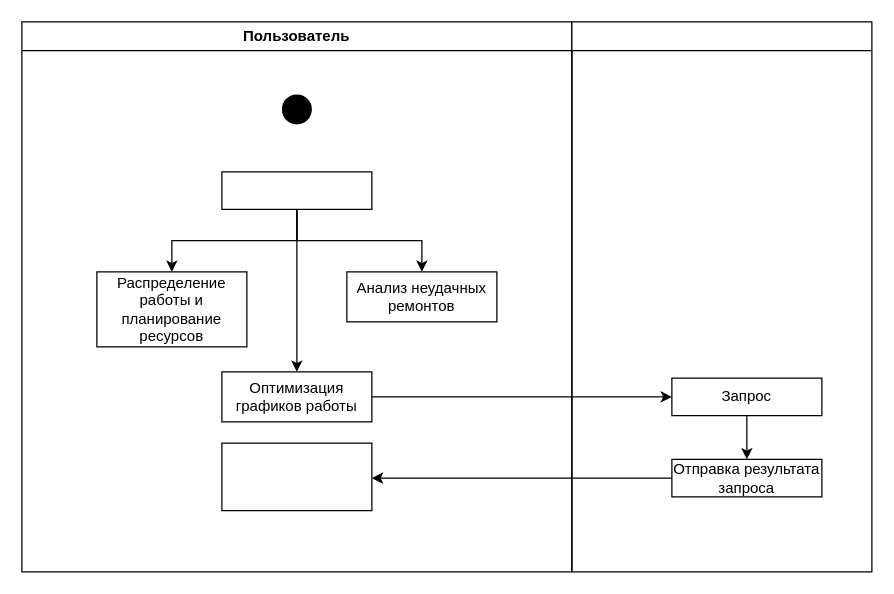
Some shapes in this 894 by 594 pixel diagram are drawn without their labels. The shapes that lost their labels are listed below. From the top down, each one's box as (x1, y1, x2, y2) in pixels, then its label:
(221, 171, 372, 209): Запуск приложения
(571, 21, 872, 572): Приложение
(221, 442, 372, 511): Получение информации по запросу
